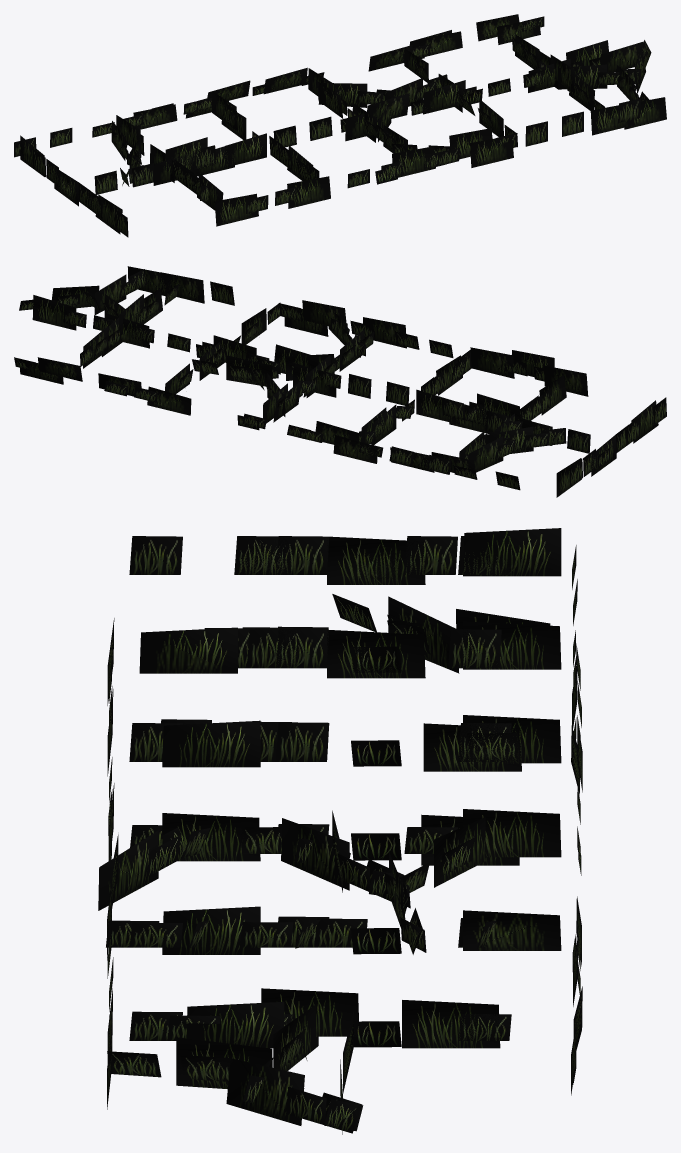
File: Sidewalk_Large_Overgrowth_Heavy.fbx
The picture shows the model from 3 angles, top to bottom: view 1: azimuth 30°, elevation 25°; view 2: azimuth 150°, elevation 25°; view 3: azimuth 270°, elevation 25°; orthographic projection. The views are drawn at different scales.
Visible parts, largest first — view 1: Sidewalk_Large_Overgrowth_Heavy; view 2: Sidewalk_Large_Overgrowth_Heavy; view 3: Sidewalk_Large_Overgrowth_Heavy.
Part boxes in pixels (x1,y1,x2,y2): Sidewalk_Large_Overgrowth_Heavy: (14,14,666,237); Sidewalk_Large_Overgrowth_Heavy: (14,266,666,497); Sidewalk_Large_Overgrowth_Heavy: (98,528,582,1134).
Bounding box in the file's own units: 1012 × 62.92 × 364.
